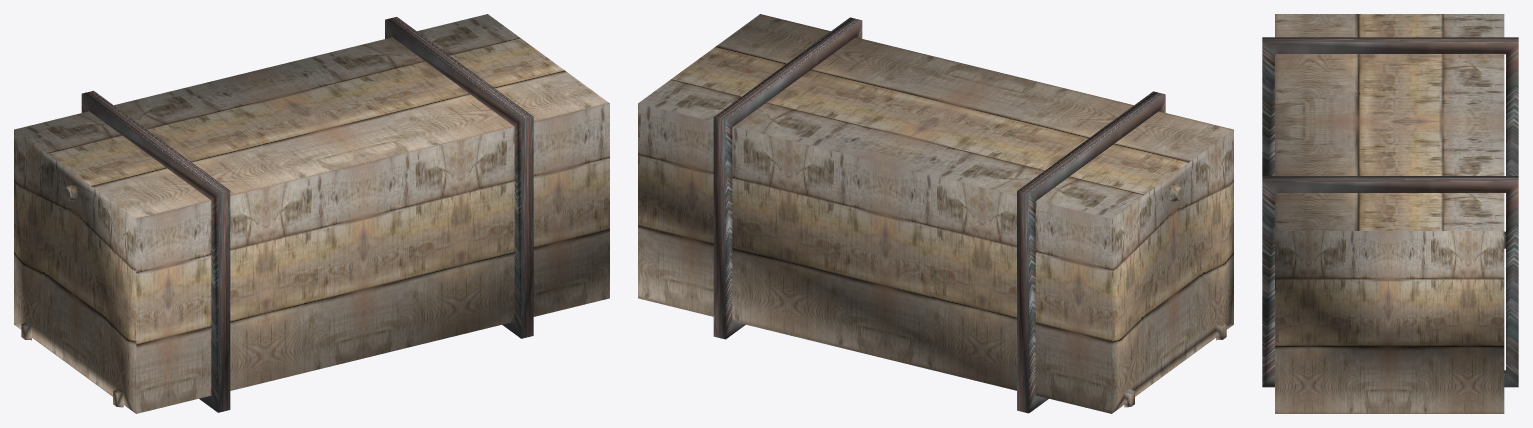
3 views of the same model, side by side, from view 1: azimuth 30°, elevation 25°; view 2: azimuth 150°, elevation 25°; view 3: azimuth 270°, elevation 25° (orthographic). The views are drawn at different scales.
Visible parts, largest first — view 1: faun_stw.000, faun_stw.001, faun_stw.142; view 2: faun_stw.000, faun_stw.142, faun_stw.001; view 3: faun_stw.000, faun_stw.142, faun_stw.001.
Part boxes in pixels (x1,y1,x2,y2): faun_stw.000: (14, 14, 609, 413); faun_stw.001: (81, 90, 230, 412); faun_stw.142: (385, 17, 533, 338); faun_stw.000: (638, 14, 1233, 413); faun_stw.142: (713, 17, 862, 339); faun_stw.001: (1017, 91, 1165, 413); faun_stw.000: (1275, 14, 1504, 413); faun_stw.142: (1262, 176, 1518, 387); faun_stw.001: (1262, 37, 1518, 248).
Bounding box in the file's own units: 1.19 × 0.5182 × 0.585.
2 materials, 2 textured.
